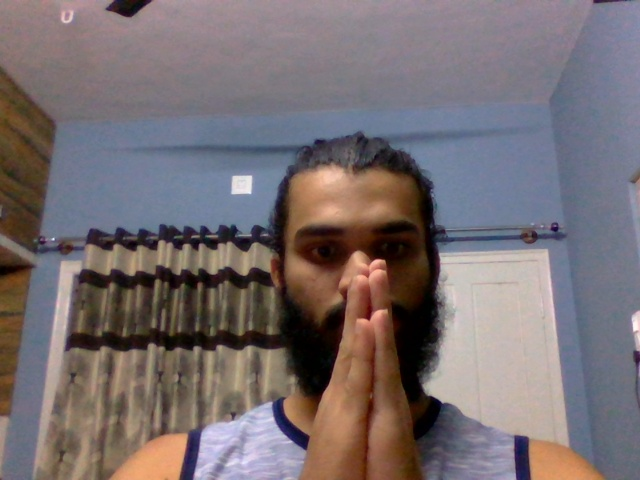ThankYou: (292, 253, 427, 478)
